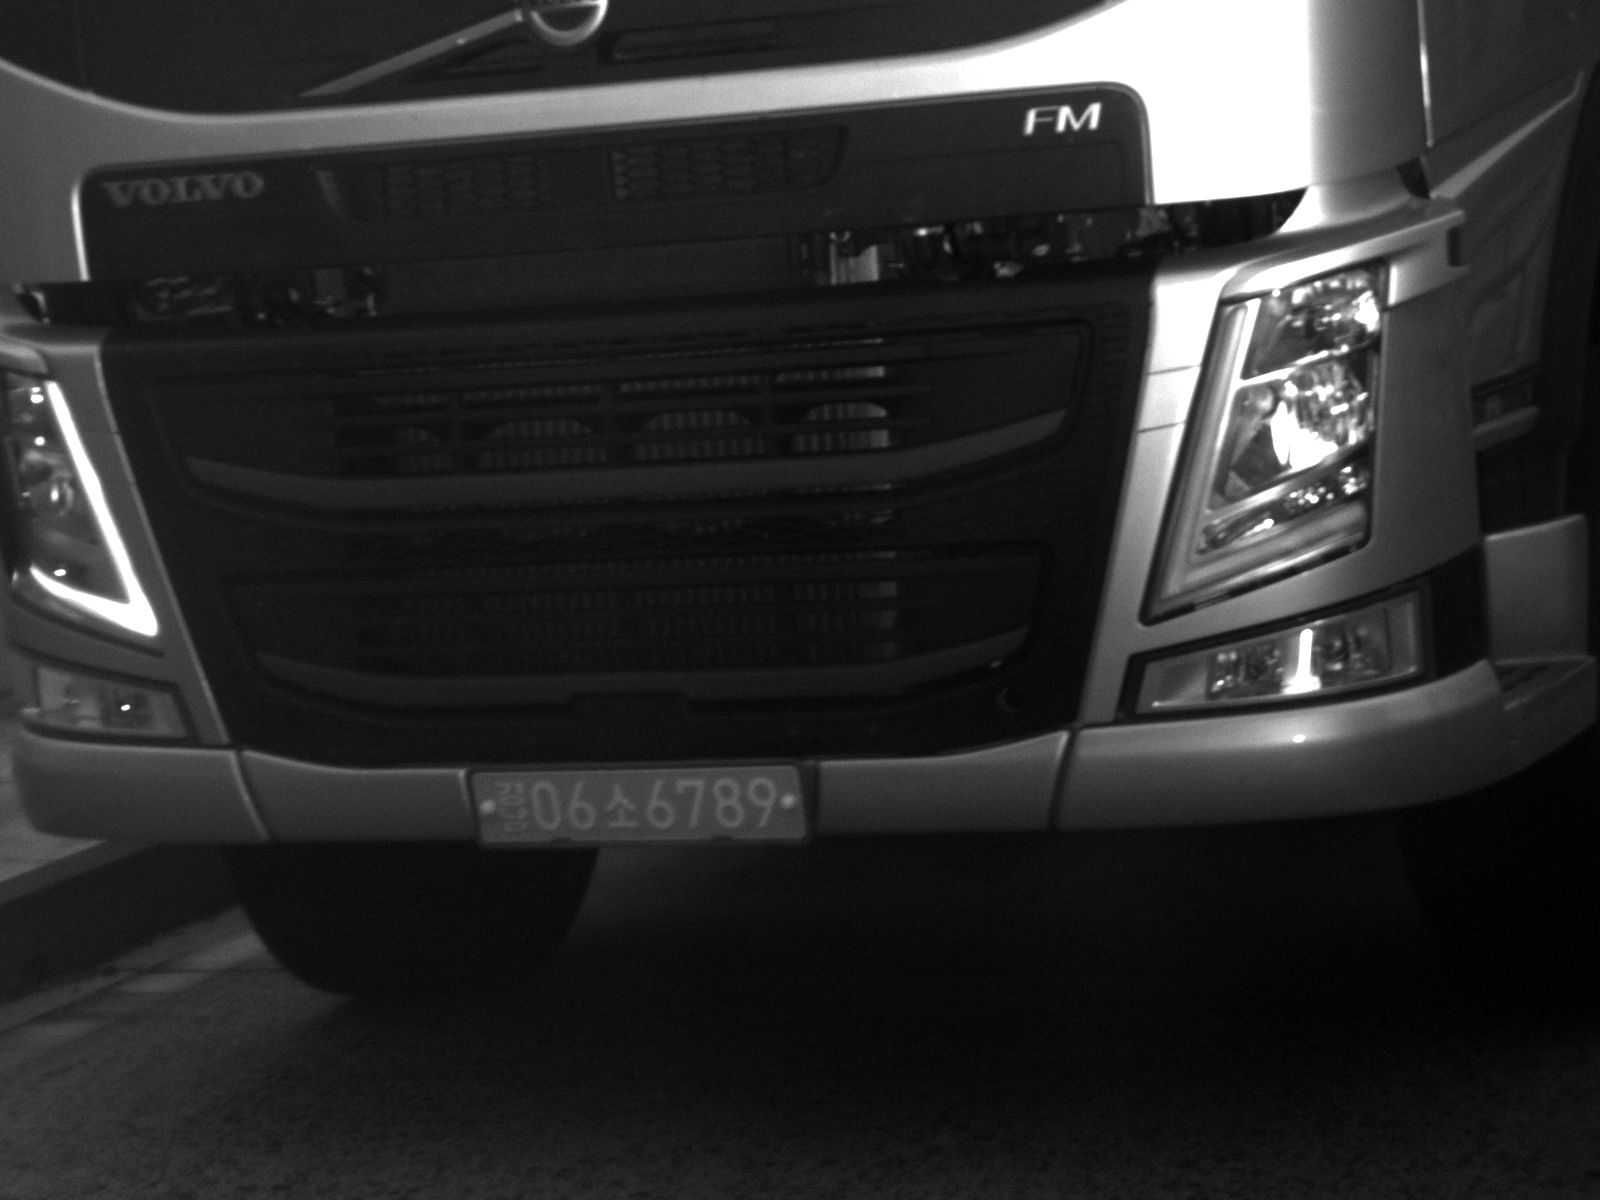car: (1, 1, 1599, 993)
plate: (463, 761, 819, 850)
